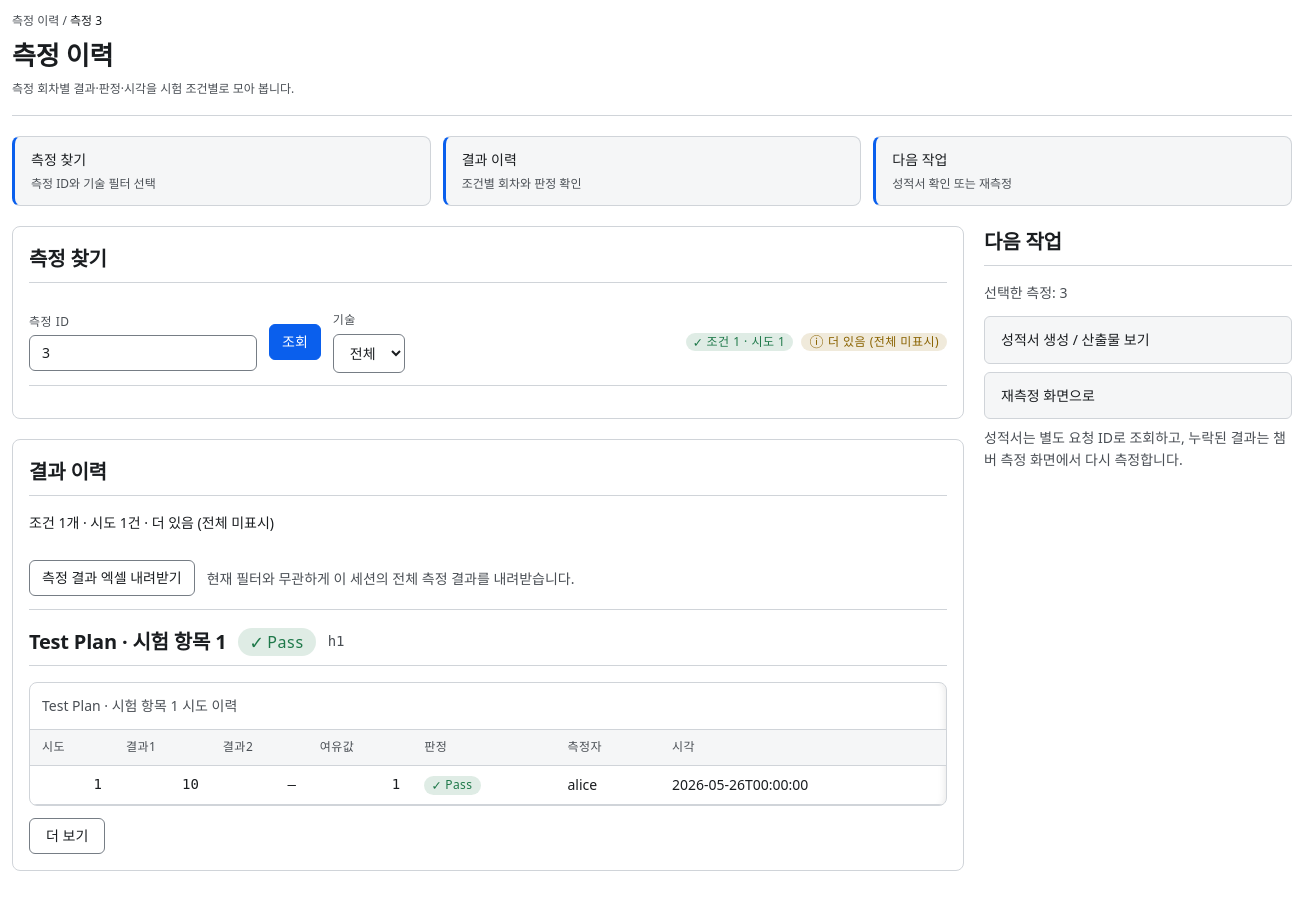
Test case: SessionsRoute keyset pagination (FE-P4-PAGE) › shows 더 보기 when truncated and appends the next page with the cursor
Check: the text with test id "attempts-summary" shows "더 있음", box 141,513 -> 274,532
Check: the number of rows with test id "attempt-row" is 1, box 30,766 -> 946,805
# 더 보기 → second page fetched with the opaque cursor query.
What coordinates should you click on to do the following:
click the button with test id "attempts-load-more"
I would click on:
 (67, 836)
Its box is 29,818 -> 105,854.
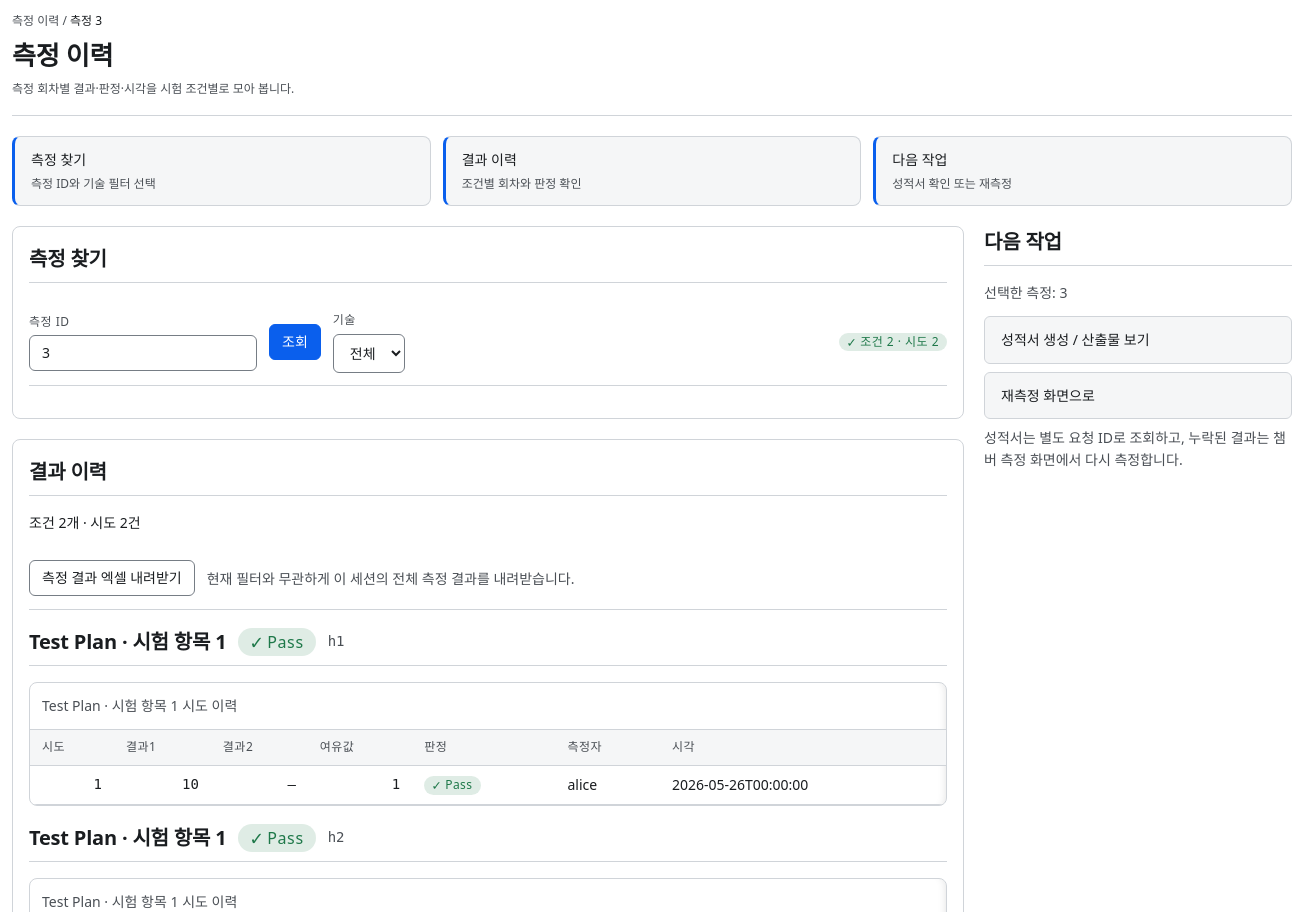
Check: the number of rows with test id "attempt-row" is 2
Check: the button with test id "attempts-load-more" is gone
